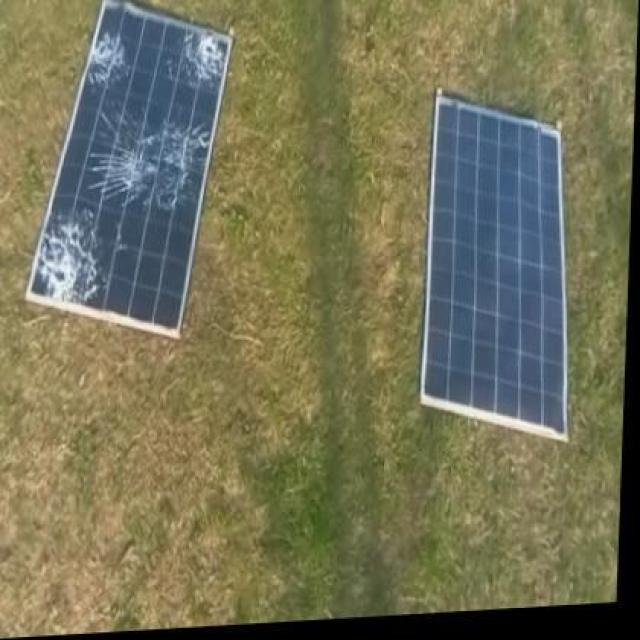cracked: (22, 4, 236, 336)
